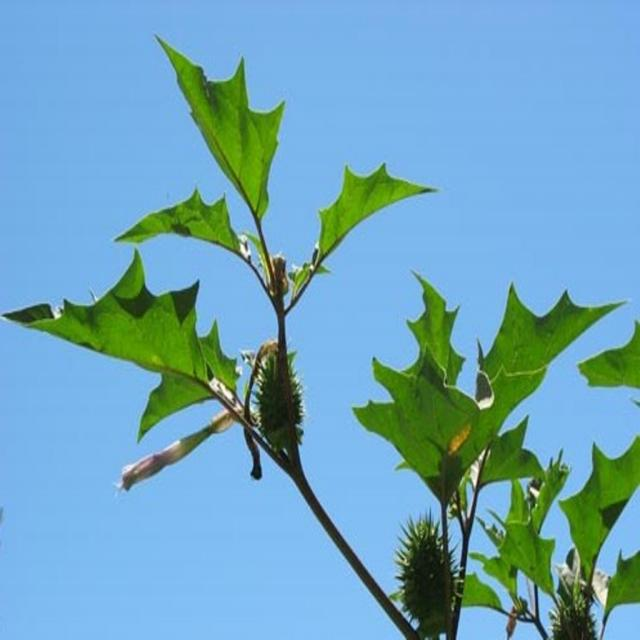Poisonous-Datura_Stramonium: (29, 26, 442, 509), (514, 423, 640, 640), (386, 518, 482, 640)
